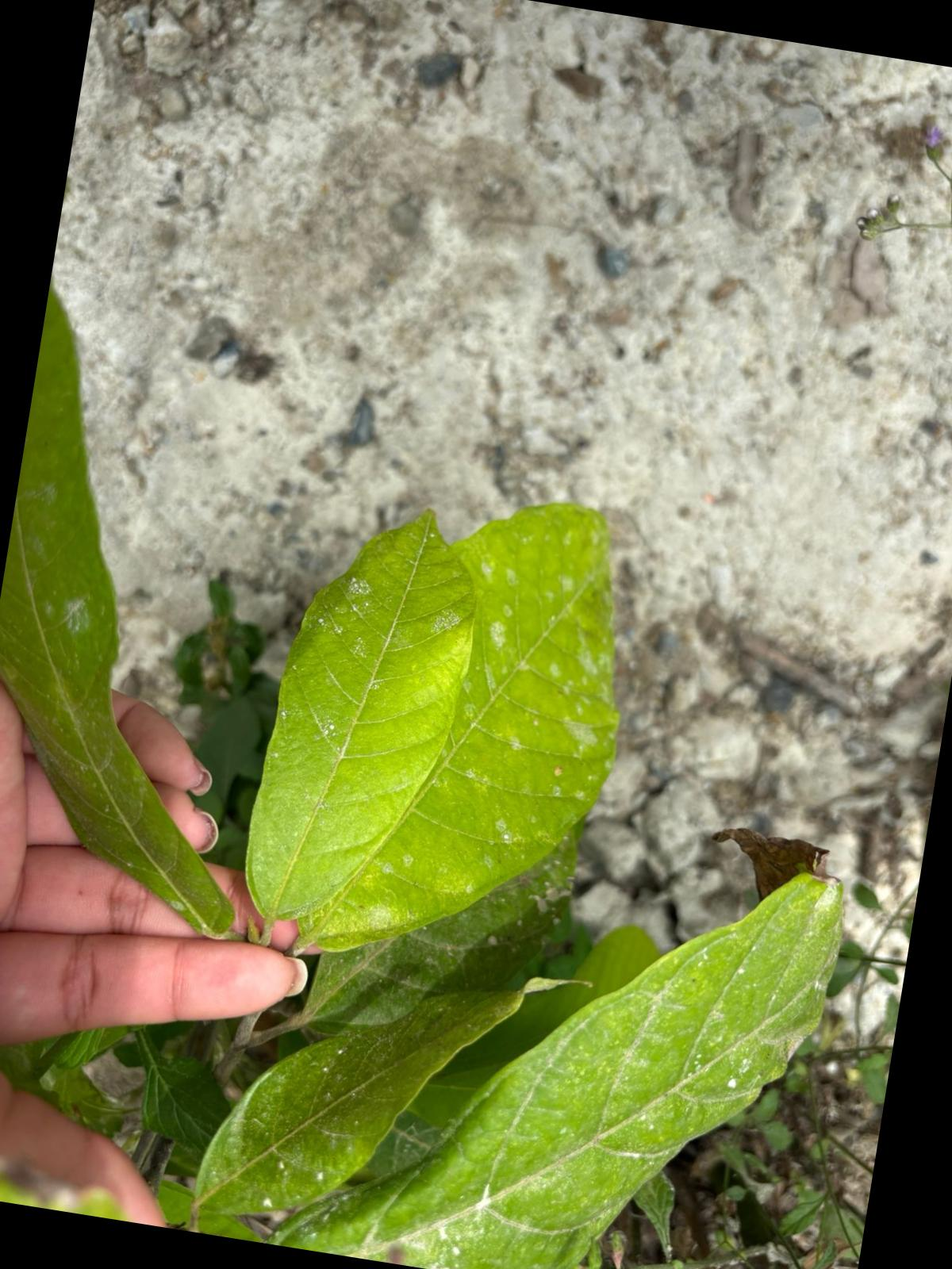Nitrogeno: (301, 505, 617, 950), (245, 513, 474, 919)
